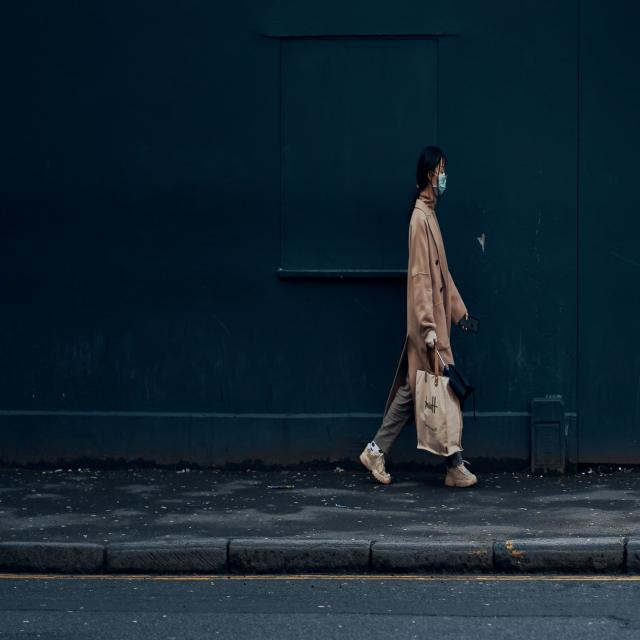adult: (356, 141, 480, 500)
